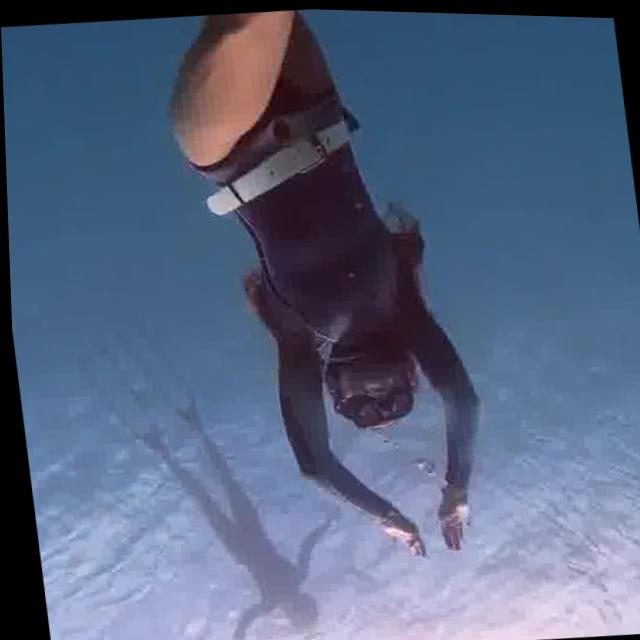human: (144, 3, 507, 585), (134, 387, 365, 640)
